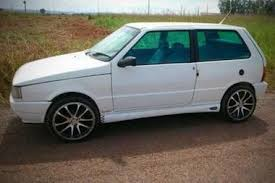car: (10, 21, 265, 140)
